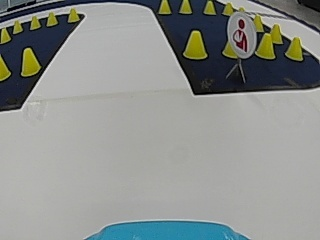cone: (182, 29, 206, 60), (21, 47, 40, 76), (256, 33, 275, 59), (286, 36, 303, 60), (0, 53, 11, 81), (271, 23, 282, 43), (0, 27, 12, 43), (46, 11, 58, 26), (179, 1, 192, 14), (158, 1, 171, 14), (203, 1, 216, 14), (29, 15, 41, 29), (67, 8, 79, 22), (253, 14, 263, 30), (12, 19, 23, 33), (222, 3, 233, 15)
patient: (231, 15, 255, 55)
